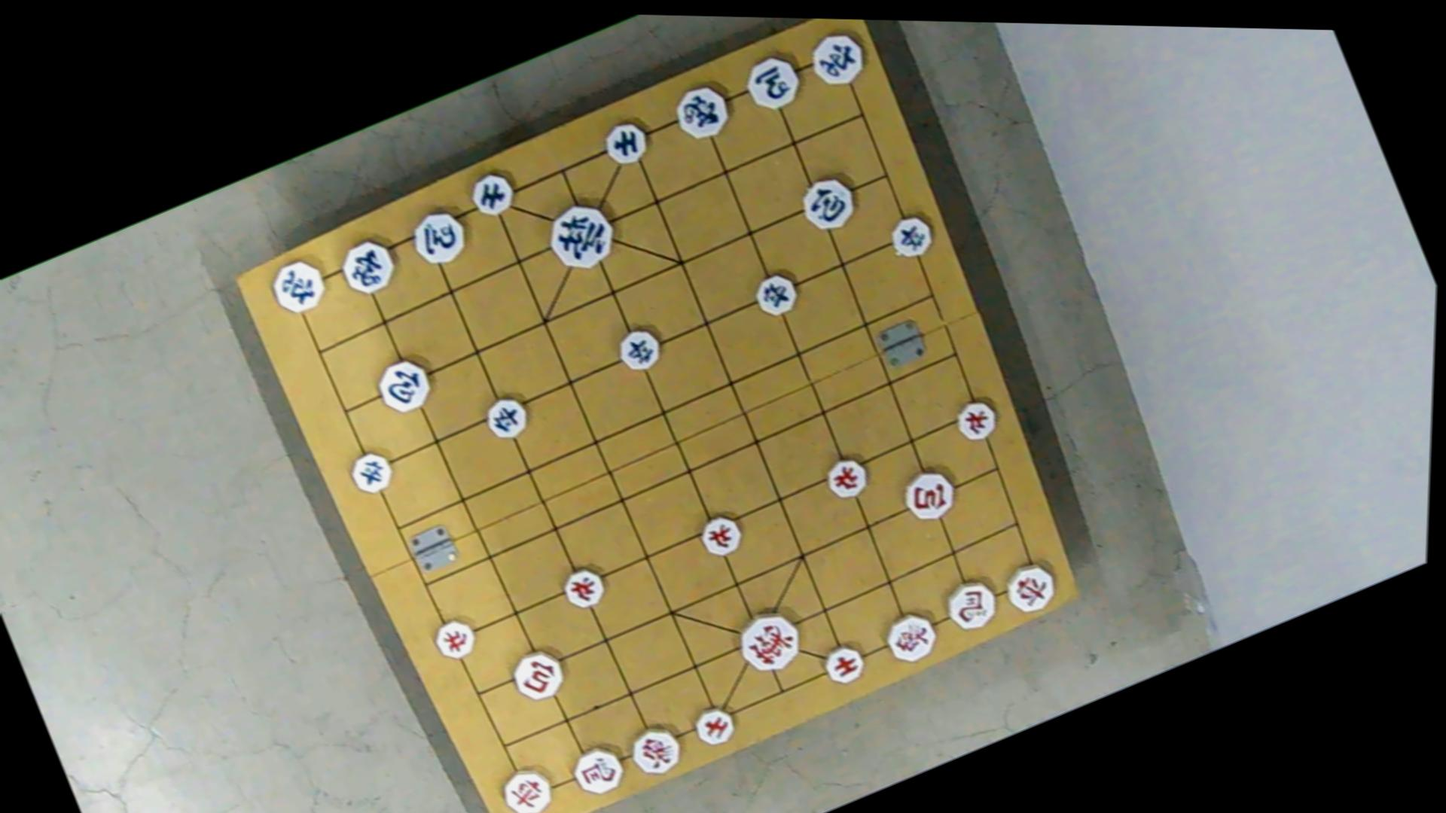cha_green: (802, 22, 873, 94), (267, 254, 334, 319)
cha_red: (998, 556, 1063, 618), (496, 762, 560, 813)
jol_green: (882, 210, 938, 263), (612, 323, 667, 376), (480, 390, 535, 441), (748, 269, 802, 320), (346, 444, 399, 495)
jol_red: (819, 453, 873, 504), (948, 394, 1002, 444), (696, 509, 749, 559), (429, 614, 481, 664), (557, 564, 609, 614)
ma_green: (406, 202, 475, 273), (738, 50, 807, 115)
ma_red: (564, 737, 632, 802), (939, 573, 1004, 634)
po_green: (368, 352, 436, 417), (793, 173, 859, 236)
po_red: (895, 462, 962, 525), (506, 644, 572, 706)
sa_green: (598, 114, 657, 171), (465, 168, 519, 219)
sa_red: (818, 641, 869, 690), (691, 700, 743, 748)
sang_green: (336, 233, 405, 300), (670, 79, 737, 145)
sang_red: (624, 716, 689, 782), (878, 604, 944, 667)
wang_green: (540, 196, 623, 276)
wang_red: (731, 605, 810, 678)
